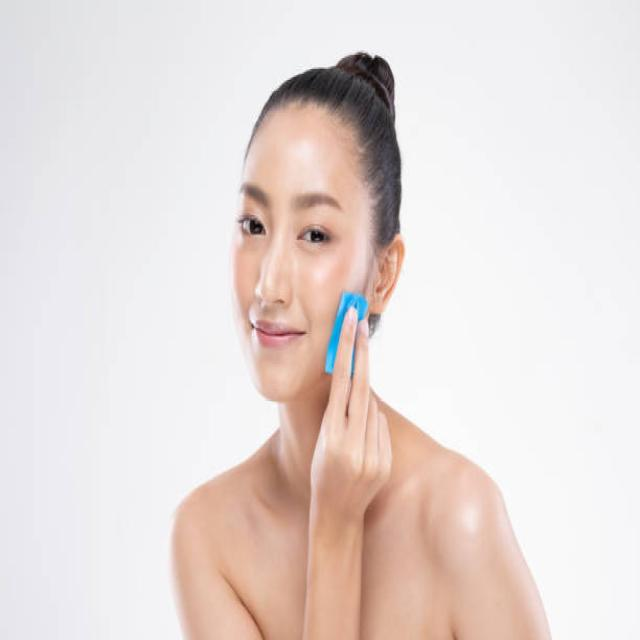Dry-Skin: (271, 140, 323, 228), (307, 302, 346, 392), (238, 262, 279, 324), (320, 240, 350, 276), (264, 356, 340, 359), (280, 359, 286, 396)
